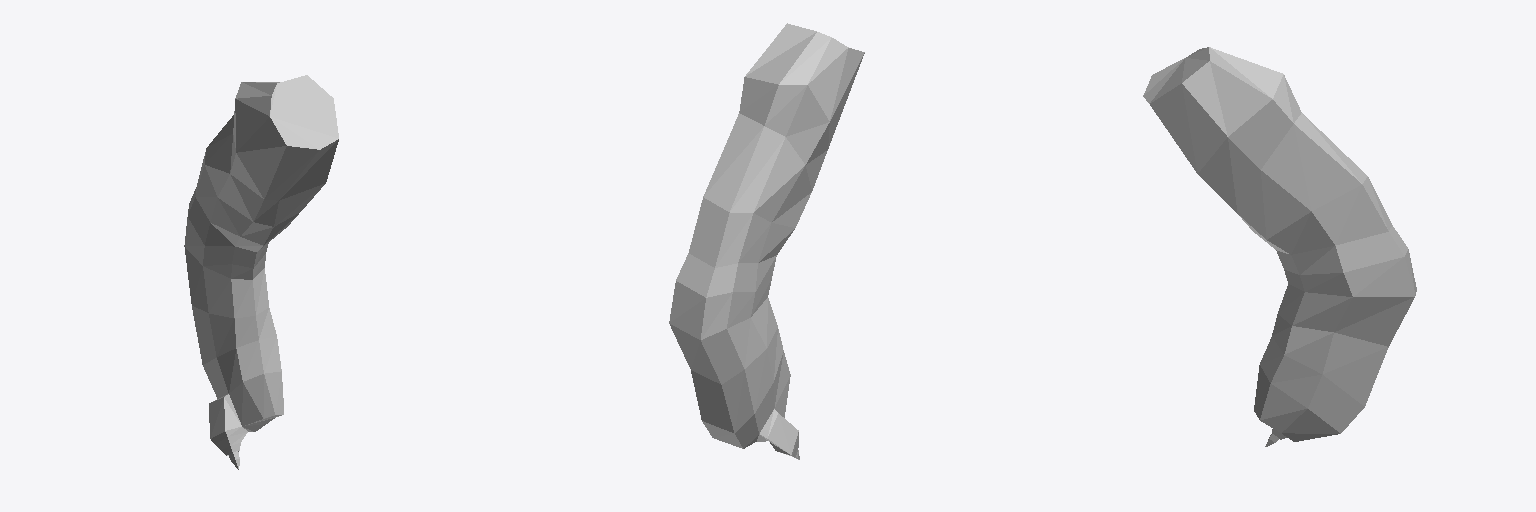
File: spinosaurusRightKneeOfficial.obj
The picture shows the model from 3 angles: view 1: azimuth 30°, elevation 25°; view 2: azimuth 150°, elevation 25°; view 3: azimuth 270°, elevation 25°; orthographic projection.
Parts seen in each view (by area): view 1: LeftLegLimb_Cube.000; view 2: LeftLegLimb_Cube.000; view 3: LeftLegLimb_Cube.000.
Boxes of the visible parts, x1,y1,x2,y2 form: LeftLegLimb_Cube.000: [184, 75, 338, 469]; LeftLegLimb_Cube.000: [669, 23, 864, 459]; LeftLegLimb_Cube.000: [1143, 47, 1416, 446].
Size of the model in its own units: 0.4233 by 2.01 by 1.23.